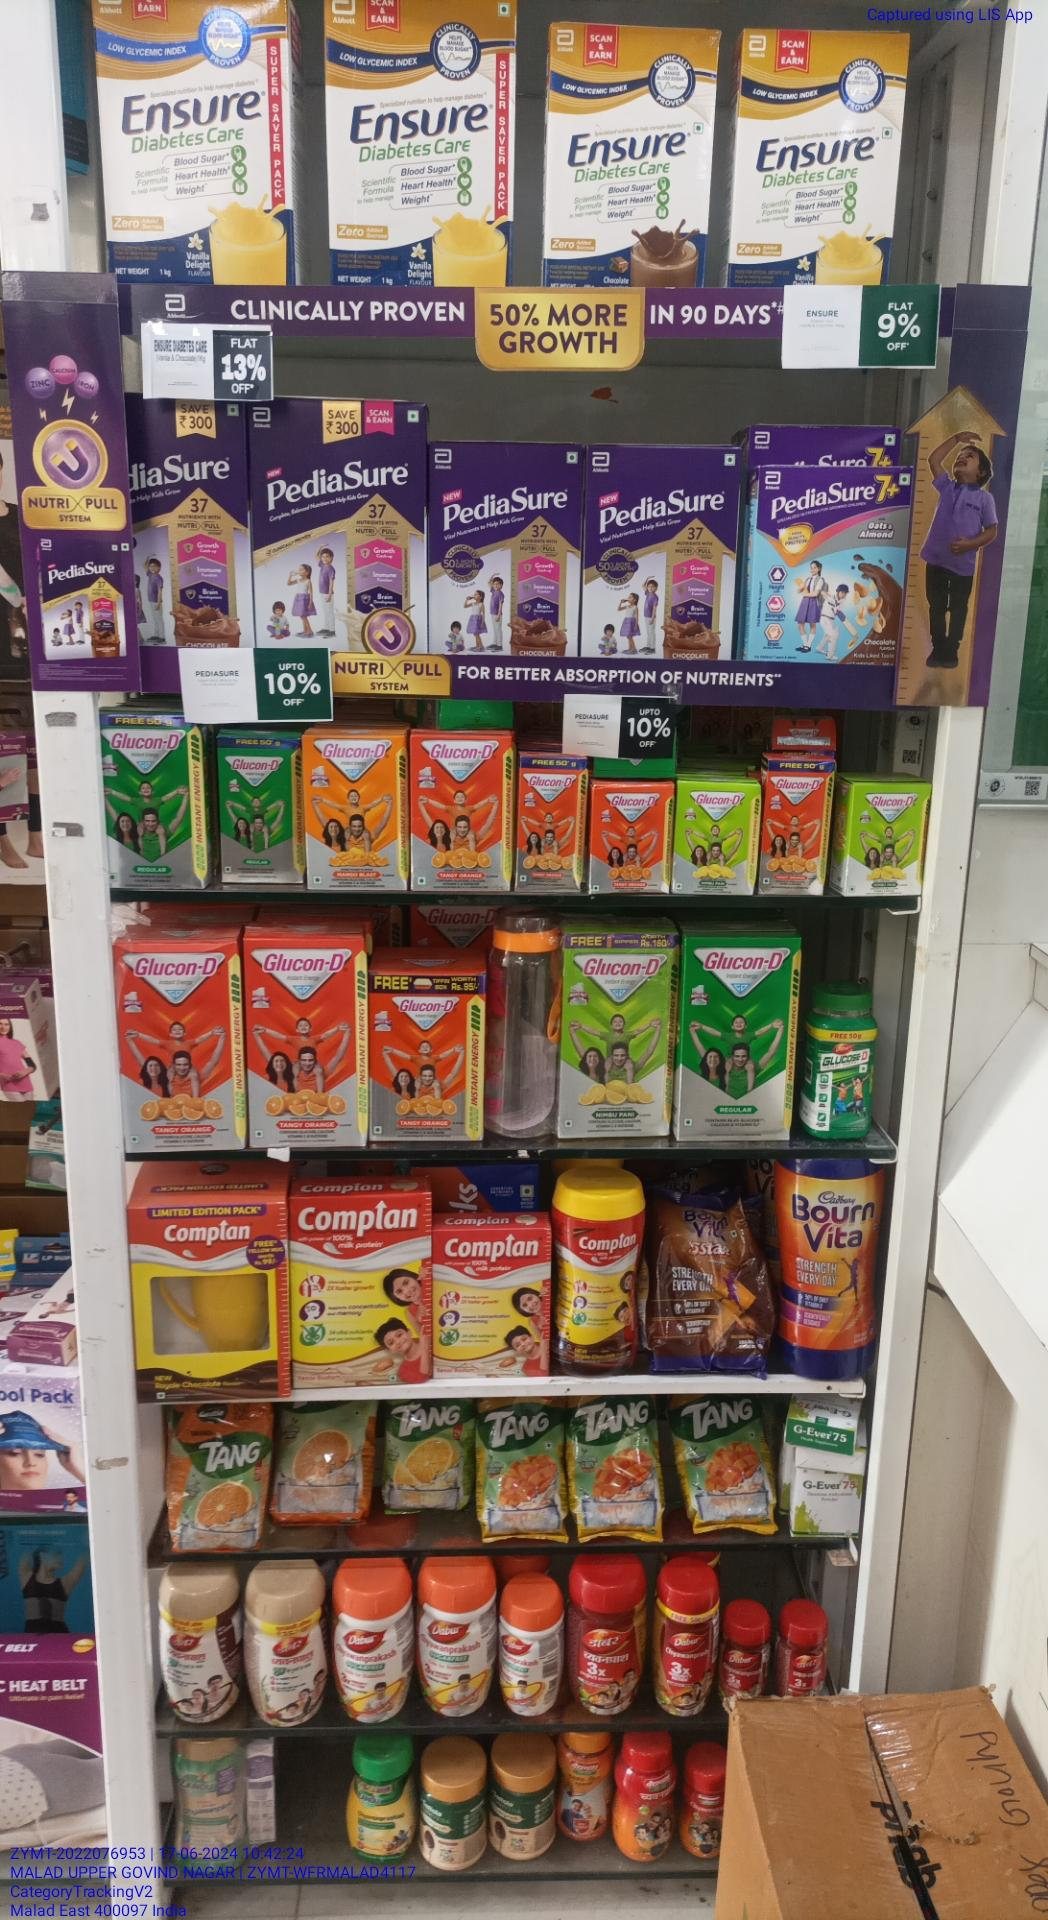BOURN_VITA_FIVE_STAR_MAGIC_500_G_POUCH: (652, 1192, 763, 1372)
COMPLAN_CHOCOLATE_500_GMS_JAR: (556, 1183, 647, 1377)
COMPLAN_KESAR_BADAM_200_GMS_PACK: (434, 1231, 550, 1381)
COMPLAN_KESAR_BADAM_500_GMS_PACK: (292, 1196, 428, 1387)
PEDIASURE_7_PLUS_CHOCOLATE_400_G_PACK: (755, 465, 902, 663)
PEDIASURE_CHOCOLATE_500_G_PACK: (586, 446, 738, 657), (428, 444, 576, 655)
